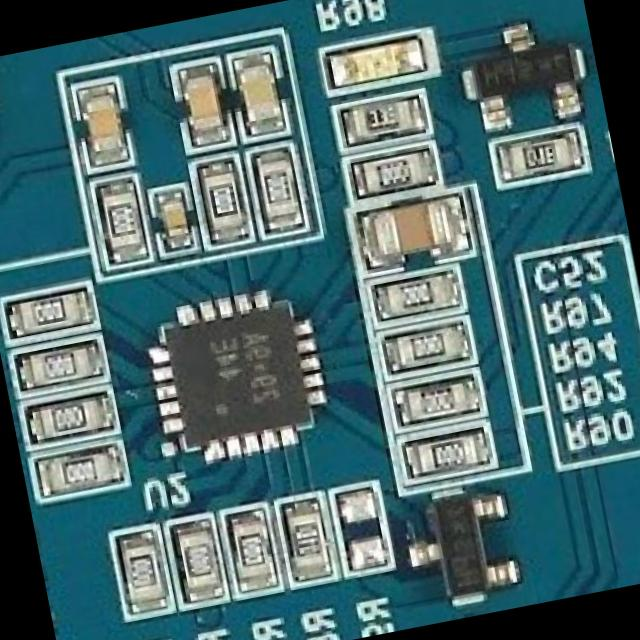IC: (156, 294, 306, 462)
LED: (336, 40, 421, 89)
capacitor: (368, 190, 460, 268), (232, 52, 286, 136), (76, 86, 132, 166), (183, 65, 230, 141), (150, 196, 197, 248)
resistor: (343, 96, 425, 148), (249, 155, 304, 226), (9, 292, 90, 340), (24, 338, 98, 390), (198, 162, 248, 238), (354, 148, 435, 194), (32, 392, 104, 442), (286, 505, 331, 583), (394, 322, 468, 369), (404, 377, 472, 426), (174, 520, 217, 596), (504, 134, 575, 180), (233, 517, 274, 592), (388, 274, 455, 318), (120, 532, 163, 598), (418, 434, 482, 476), (105, 188, 145, 250), (53, 450, 112, 492)
transistor: (468, 21, 584, 132), (410, 484, 517, 598)
